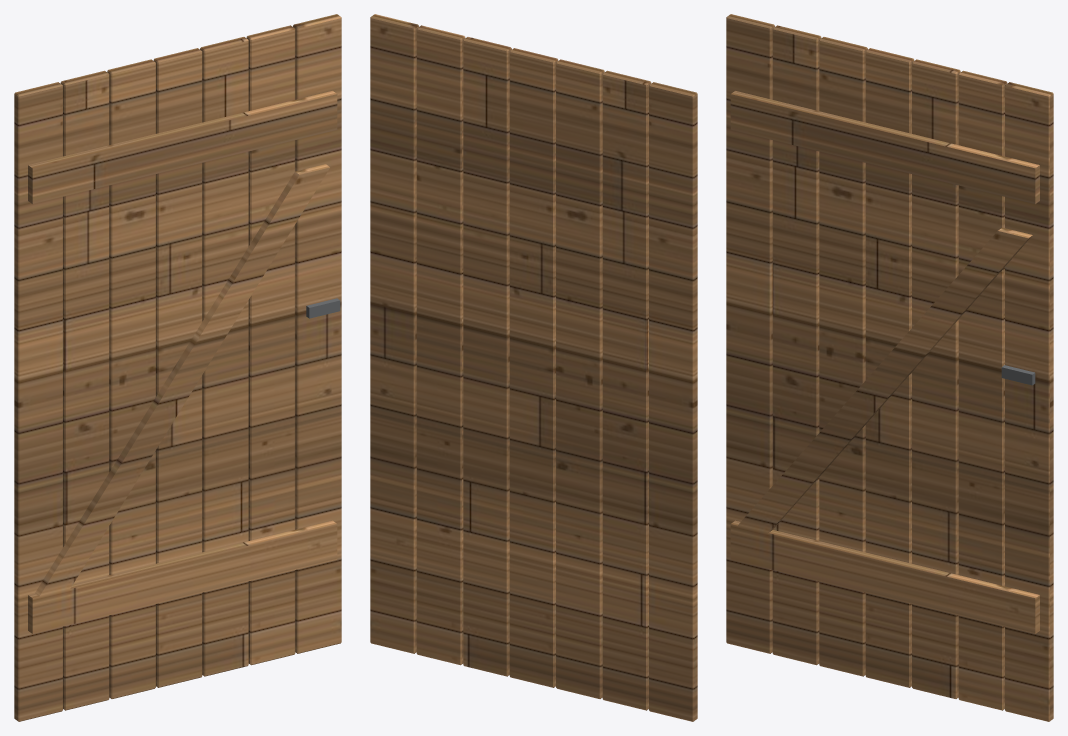
File: gate_wood.glb
3 renders of one model, left to right at view 1: azimuth 30°, elevation 25°; view 2: azimuth 150°, elevation 25°; view 3: azimuth 330°, elevation 25°, orthographic.
Visible parts, largest first — view 1: gate_wood_wood; view 2: gate_wood_wood; view 3: gate_wood_wood.
Part boxes in pixels (box(x1,y1,x2,y2)): gate_wood_wood: box(14, 14, 341, 721); gate_wood_wood: box(370, 14, 697, 721); gate_wood_wood: box(726, 14, 1053, 721).
Size of the model in its own units: 0.946 by 1.75 by 0.062.
Materials: 2 (1 with a texture image).
